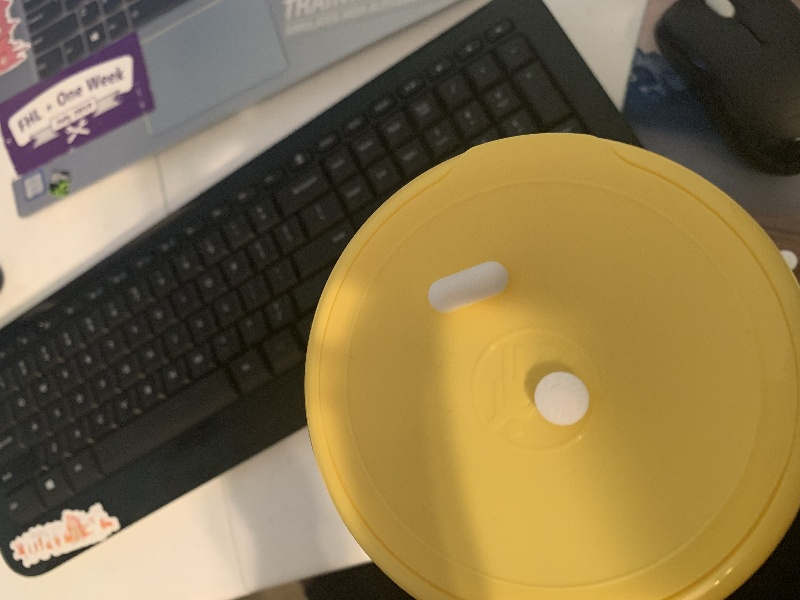Aspirin: (531, 370, 593, 430)
Tylenol: (426, 259, 512, 314)
